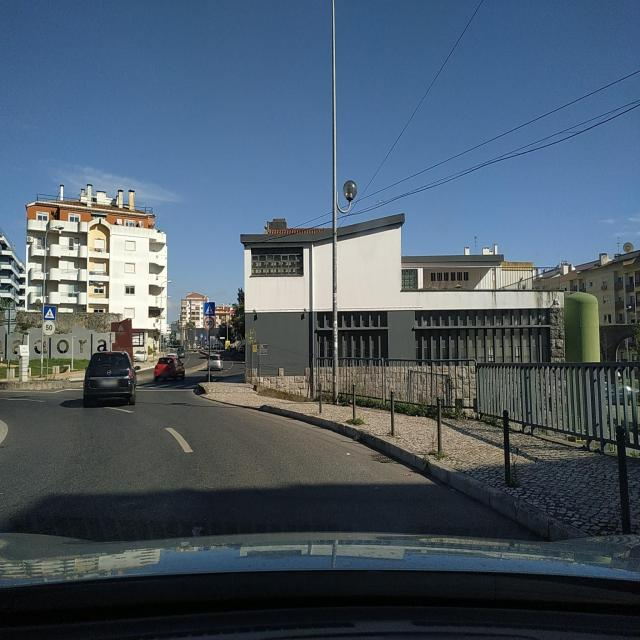car: (82, 349, 138, 406), (154, 356, 186, 382), (204, 353, 223, 371), (176, 346, 186, 358)
